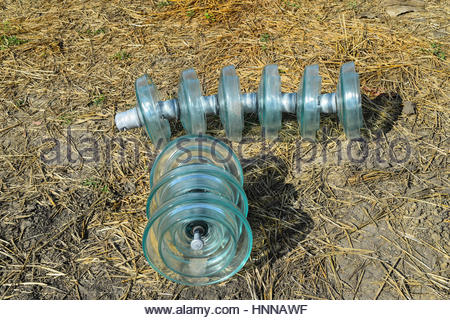isolator: (135, 62, 363, 148), (140, 133, 254, 287)
